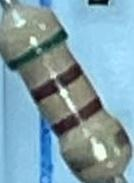Brown: (28, 62, 84, 107), (51, 96, 105, 139)
Green: (6, 27, 68, 71)
Side-Silver: (62, 128, 131, 176)
